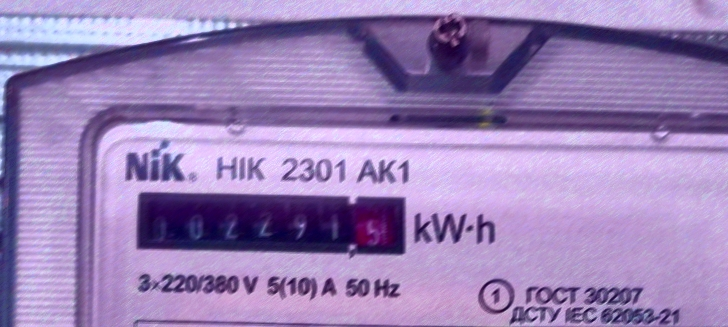0: (150, 212, 168, 241), (188, 212, 204, 241)
1: (327, 210, 341, 244)
2: (223, 211, 239, 241), (258, 209, 272, 238)
5: (365, 217, 381, 247)
9: (292, 211, 308, 241)
screen: (133, 185, 410, 263)
